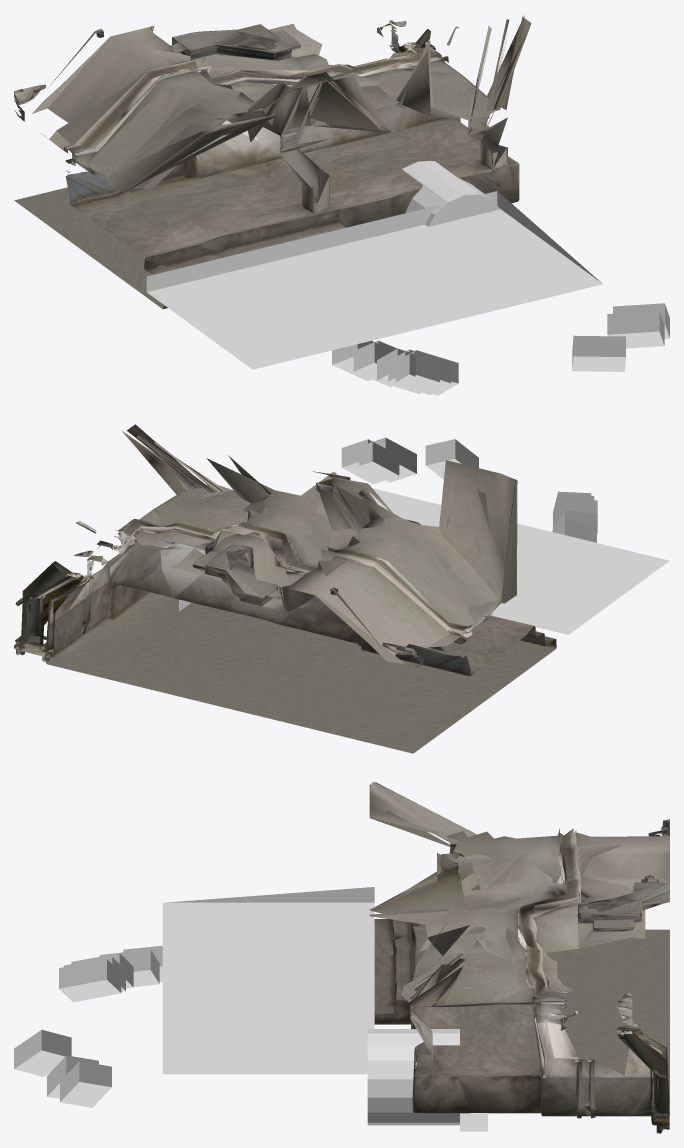
Rendered from militia_field_clinic_wreck.glb.
3 renders of one model, top to bottom at view 1: azimuth 30°, elevation 25°; view 2: azimuth 150°, elevation 25°; view 3: azimuth 270°, elevation 25°, orthographic. The views are drawn at different scales.
Visible parts, largest first — view 1: dome, trim, wall, roof, wood, rust, metal, glass; view 2: wall, trim, dome, roof, wood, glass, metal; view 3: dome, wall, trim, roof, wood, rust, glass, metal.
Boxes of the visible parts, x1=… form: dome: x1=146, y1=191, x2=602, y2=369; trim: x1=65, y1=23, x2=518, y2=274; wall: x1=14, y1=15, x2=531, y2=309; roof: x1=14, y1=23, x2=414, y2=151; wood: x1=332, y1=303, x2=669, y2=395; rust: x1=402, y1=161, x2=499, y2=226; metal: x1=14, y1=20, x2=391, y2=111; glass: x1=65, y1=29, x2=435, y2=268; wall: x1=16, y1=424, x2=556, y2=753; trim: x1=15, y1=458, x2=554, y2=675; dome: x1=368, y1=488, x2=669, y2=634; roof: x1=134, y1=529, x2=461, y2=667; wood: x1=341, y1=437, x2=597, y2=542; glass: x1=14, y1=561, x2=544, y2=658; metal: x1=88, y1=543, x2=420, y2=655; dome: x1=162, y1=887, x2=374, y2=1074; wall: x1=369, y1=784, x2=669, y2=1133; trim: x1=369, y1=782, x2=669, y2=1121; roof: x1=534, y1=832, x2=669, y2=992; wood: x1=14, y1=945, x2=162, y2=1107; rust: x1=367, y1=1029, x2=487, y2=1131; glass: x1=616, y1=1023, x2=669, y2=1128; metal: x1=578, y1=819, x2=669, y2=997.
Bounding box in the file's own units: 5.69 × 2.68 × 7.47.
Materials: 1 (1 with a texture image).
